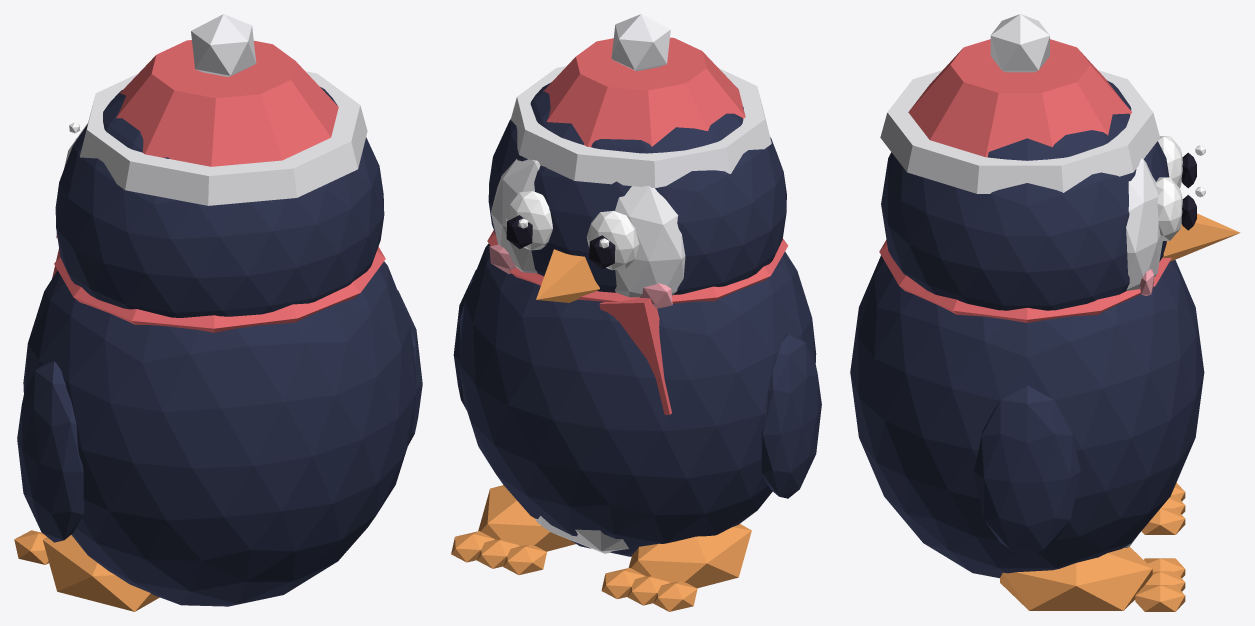
The model's file is pingo.glb.
3 views of the same model, side by side, from view 1: azimuth 30°, elevation 25°; view 2: azimuth 150°, elevation 25°; view 3: azimuth 270°, elevation 25° (orthographic). The views are drawn at different scales.
Visible parts, largest first — view 1: body__c_2f3552, head__c_2f3552, head__c_e8676b, head__c_f1f0f4, armR__c_2f3552, body__c_f4a259, body__c_e8676b, armL__c_2f3552; view 2: body__c_2f3552, head__c_2f3552, head__c_f1f0f4, head__c_e8676b, body__c_f4a259, armR__c_2f3552, body__c_e8676b, head__c_ffffff, head__c_f4a259, head__c_1d1b2a, body__c_f1f0f4, head__c_f3a3b0 (+1 smaller); view 3: body__c_2f3552, head__c_2f3552, head__c_f1f0f4, head__c_e8676b, armL__c_2f3552, body__c_f4a259, body__c_e8676b, head__c_ffffff, head__c_f4a259, head__c_1d1b2a.
Boxes of the visible parts, x1,y1,x2,y2 form: body__c_2f3552: [23, 261, 416, 606]; head__c_2f3552: [55, 87, 384, 317]; head__c_e8676b: [116, 40, 338, 166]; head__c_f1f0f4: [64, 14, 367, 205]; armR__c_2f3552: [17, 361, 84, 542]; body__c_f4a259: [14, 530, 159, 611]; body__c_e8676b: [52, 247, 385, 332]; armL__c_2f3552: [397, 290, 422, 445]; body__c_2f3552: [459, 243, 816, 556]; head__c_2f3552: [488, 82, 786, 294]; head__c_f1f0f4: [491, 14, 771, 297]; head__c_e8676b: [543, 37, 745, 147]; body__c_f4a259: [451, 485, 751, 611]; armR__c_2f3552: [760, 334, 821, 498]; body__c_e8676b: [487, 230, 788, 414]; head__c_ffffff: [505, 191, 639, 270]; head__c_f4a259: [536, 249, 599, 302]; head__c_1d1b2a: [506, 215, 615, 269]; body__c_f1f0f4: [535, 516, 628, 553]; head__c_f3a3b0: [489, 244, 672, 308]; body__c_2f3552: [850, 255, 1204, 578]; head__c_2f3552: [881, 80, 1169, 310]; head__c_f1f0f4: [880, 14, 1162, 290]; head__c_e8676b: [908, 39, 1131, 157]; armL__c_2f3552: [973, 385, 1080, 557]; body__c_f4a259: [1000, 482, 1185, 611]; body__c_e8676b: [879, 239, 1171, 322]; head__c_ffffff: [1156, 136, 1205, 240]; head__c_f4a259: [1163, 213, 1240, 261]; head__c_1d1b2a: [1181, 152, 1196, 230].
Size of the model in its own units: 1.19 by 1.75 by 1.12.
